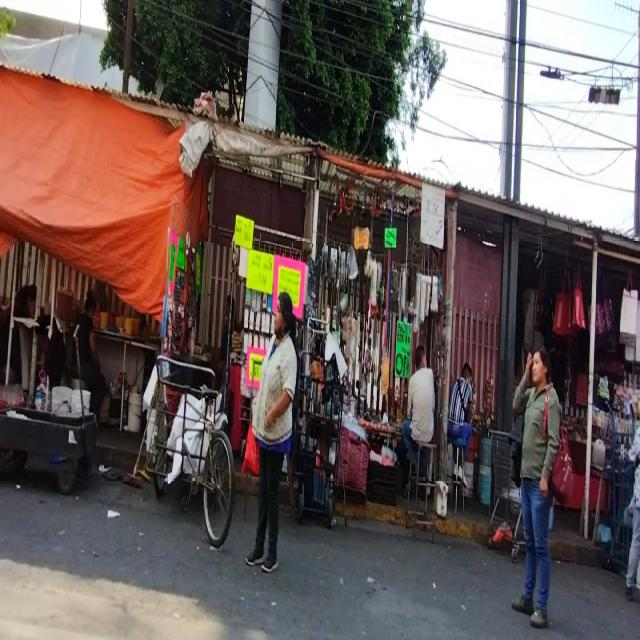adult: (244, 292, 298, 574), (511, 338, 561, 627), (405, 344, 436, 474), (448, 363, 473, 484)
